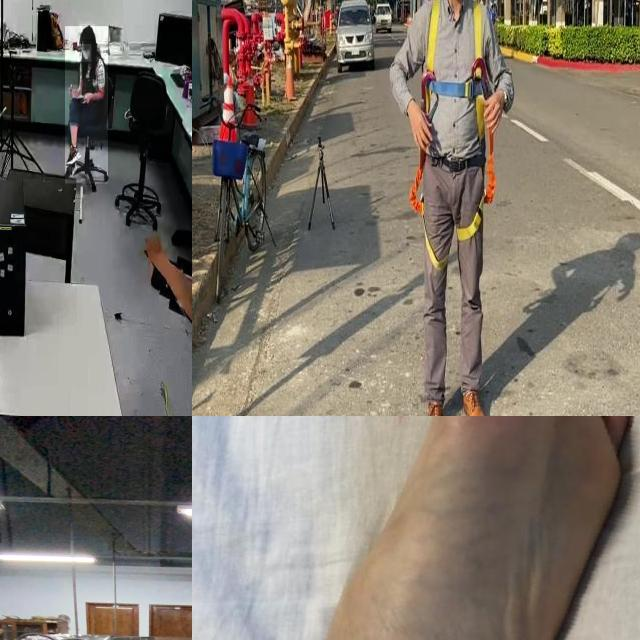Barefoots: (313, 416, 640, 640)
Harness: (422, 0, 497, 204)
face_mask: (77, 44, 91, 62)
hand_noglove: (80, 90, 92, 104), (72, 85, 82, 98)
head_nohelmet: (80, 24, 96, 40)
person: (65, 26, 109, 184)
shoes: (64, 139, 82, 167)
